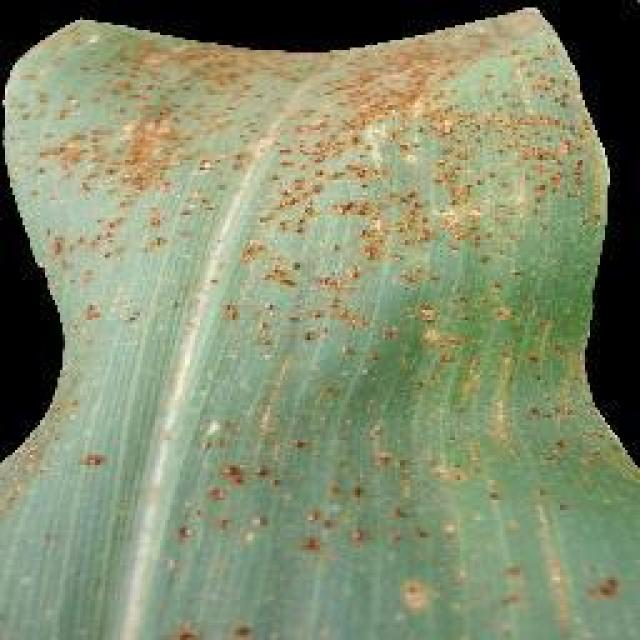Corn Common Rust: (75, 0, 552, 545)
